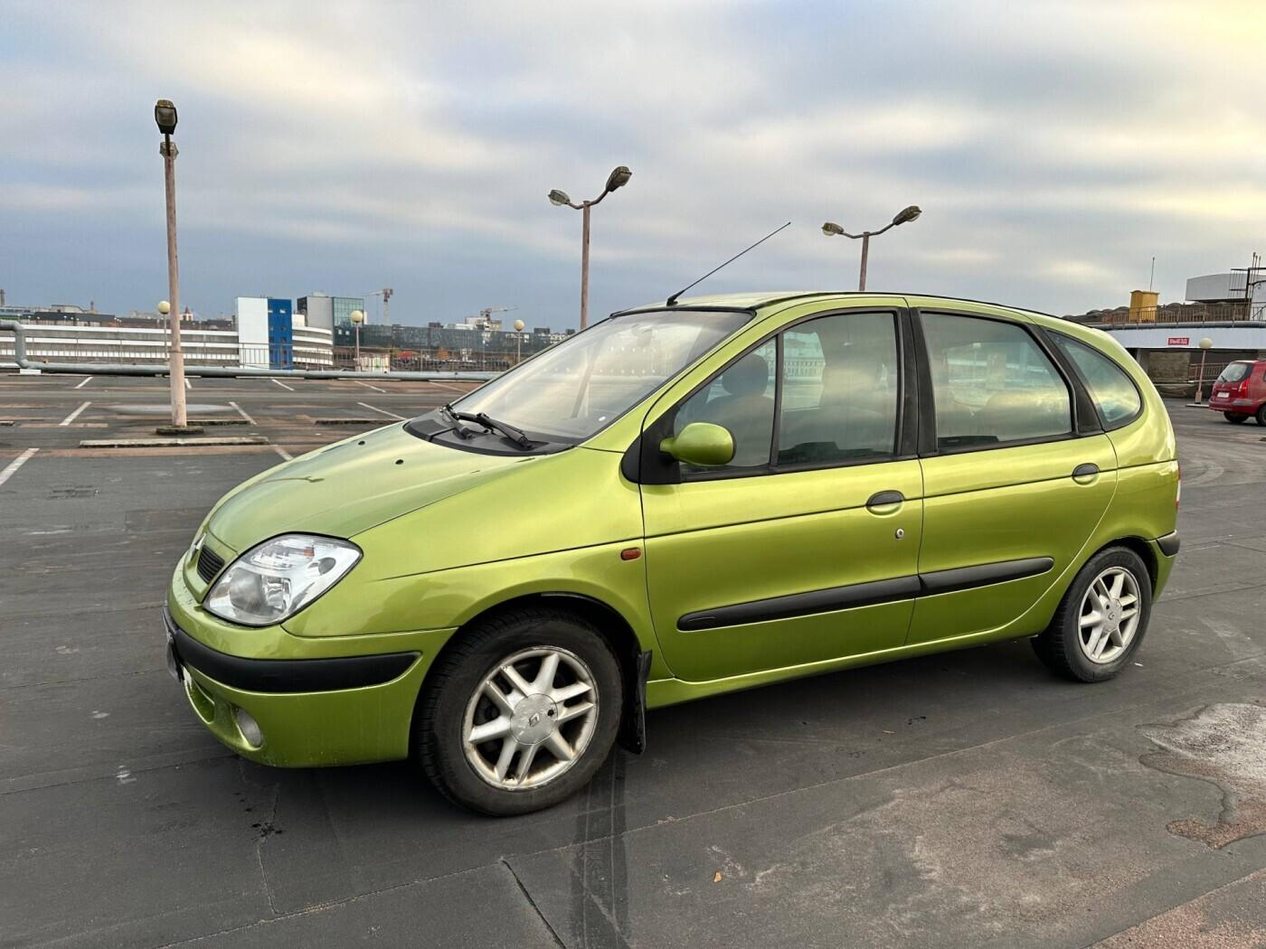Megane_1999-2003: (161, 284, 1181, 812)
